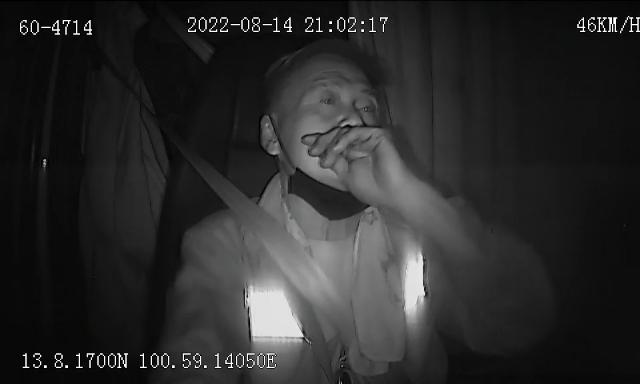Seatbelt: (191, 156, 359, 350)
